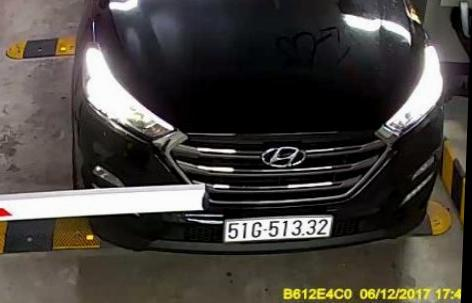License_Plate: (222, 213, 331, 249)
